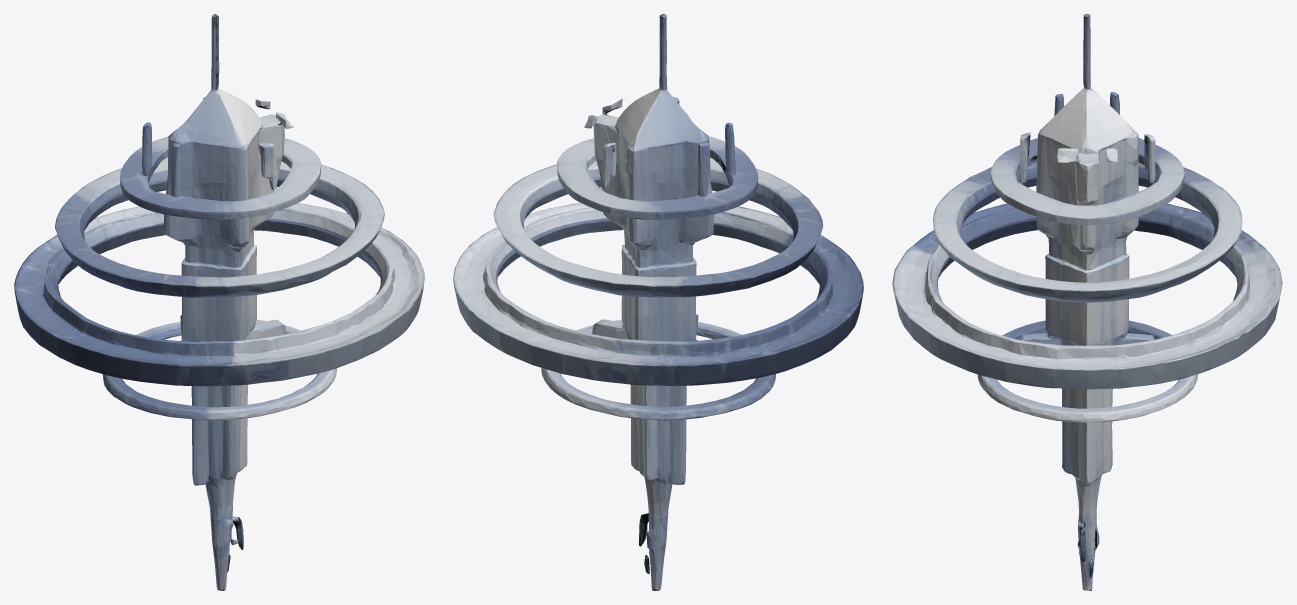
The model's file is Station2.glb.
The picture shows the model from 3 angles, left to right: view 1: azimuth 30°, elevation 25°; view 2: azimuth 150°, elevation 25°; view 3: azimuth 270°, elevation 25°; orthographic projection.
Parts seen in each view (by area): view 1: world; view 2: world; view 3: world.
Part boxes in pixels (x1,y1,x2,y2): world: (14,14,424,590); world: (453,14,863,590); world: (892,14,1282,590).
Size of the model in its own units: 0.6558 by 1 by 0.6185.
Materials: 1 (1 with a texture image).
